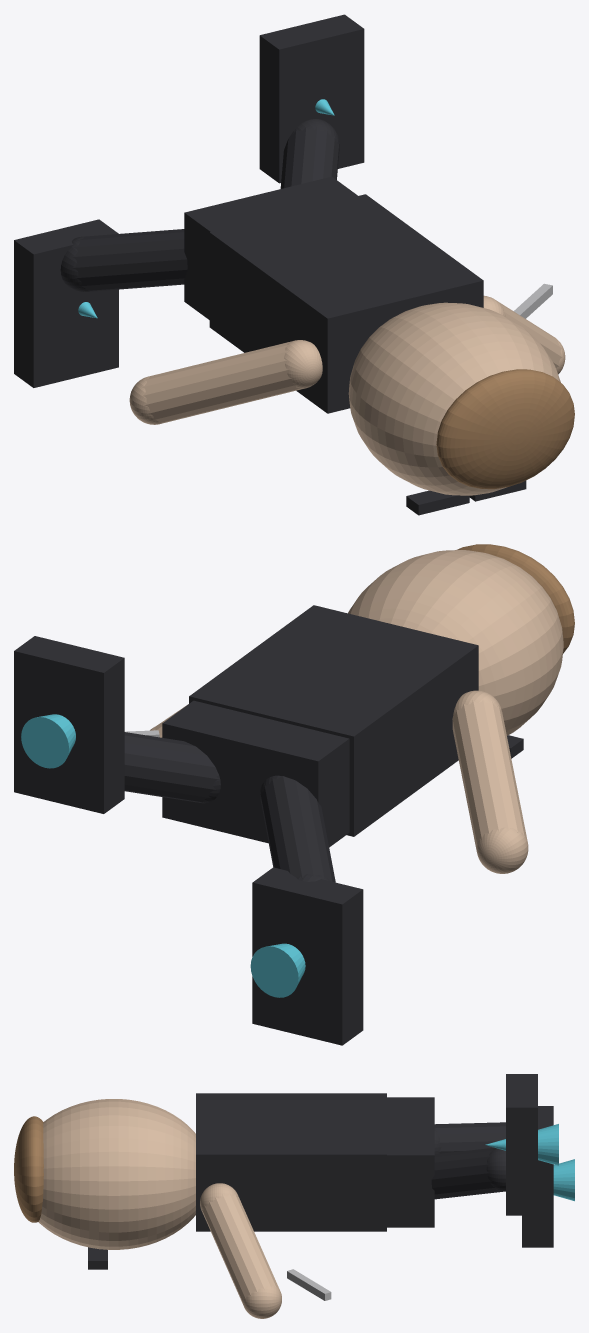
File: character_tech_billionaire_rocket_runner.glb
3 renders of one model, top to bottom at view 1: azimuth 30°, elevation 25°; view 2: azimuth 150°, elevation 25°; view 3: azimuth 270°, elevation 25°, orthographic. The views are drawn at different scales.
Visible parts, largest first — view 1: torso, head, right_shoe, hair, left_shoe, left_arm, left_leg, hips, right_leg, right_arm, shade_l; view 2: torso, head, hips, left_shoe, right_shoe, left_arm, left_leg, right_leg, rocket_r, rocket_l, hair; view 3: torso, head, hips, right_arm, right_shoe, right_leg, hair, left_shoe, left_leg, rocket_r, rocket_l, jacket_x (+1 smaller).
Boxes of the visible parts, x1=… form: torso: x1=209, y1=194, x2=483, y2=413; head: x1=348, y1=302, x2=560, y2=495; right_shoe: x1=259, y1=14, x2=364, y2=183; hair: x1=436, y1=369, x2=574, y2=489; left_shoe: x1=14, y1=219, x2=118, y2=387; left_arm: x1=129, y1=340, x2=322, y2=424; left_leg: x1=60, y1=229, x2=187, y2=292; hips: x1=184, y1=176, x2=357, y2=319; right_leg: x1=280, y1=119, x2=339, y2=188; right_arm: x1=483, y1=295, x2=565, y2=374; shade_l: x1=406, y1=490, x2=469, y2=515; torso: x1=189, y1=605, x2=478, y2=836; head: x1=348, y1=550, x2=563, y2=735; hips: x1=162, y1=700, x2=349, y2=847; left_shoe: x1=252, y1=867, x2=363, y2=1045; right_shoe: x1=14, y1=636, x2=124, y2=813; left_arm: x1=452, y1=690, x2=528, y2=873; left_leg: x1=260, y1=775, x2=335, y2=882; right_leg: x1=124, y1=732, x2=220, y2=803; rocket_r: x1=21, y1=714, x2=75, y2=768; rocket_l: x1=250, y1=943, x2=305, y2=997; hair: x1=457, y1=544, x2=574, y2=653; torso: x1=196, y1=1093, x2=386, y2=1231; head: x1=38, y1=1099, x2=195, y2=1249; hips: x1=387, y1=1097, x2=434, y2=1227; right_arm: x1=200, y1=1183, x2=281, y2=1318; right_shoe: x1=506, y1=1074, x2=537, y2=1215; right_leg: x1=431, y1=1147, x2=505, y2=1199; hair: x1=14, y1=1116, x2=43, y2=1222; left_shoe: x1=522, y1=1106, x2=553, y2=1247; left_leg: x1=434, y1=1122, x2=505, y2=1154; rocket_r: x1=485, y1=1124, x2=558, y2=1165; rocket_l: x1=553, y1=1159, x2=574, y2=1201; jacket_x: x1=287, y1=1269, x2=331, y2=1300.
Bounding box in the file's own units: 1.49 × 0.97 × 2.12.
